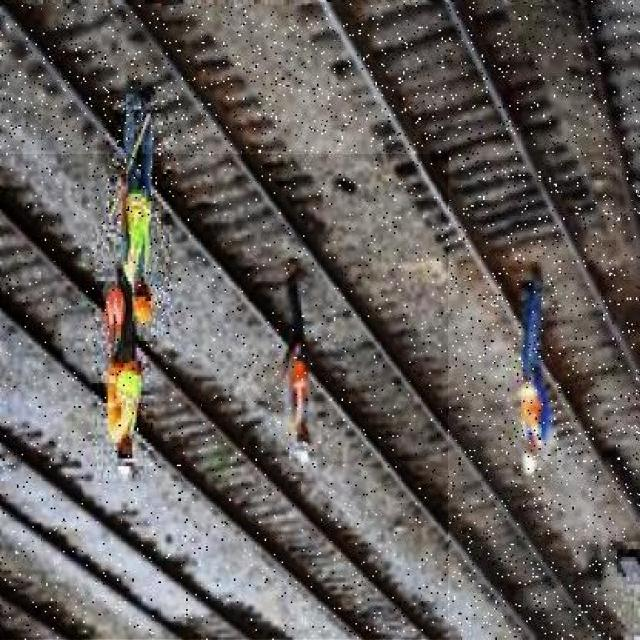rail: (1, 7, 617, 640), (1, 155, 449, 640), (315, 2, 639, 541)
